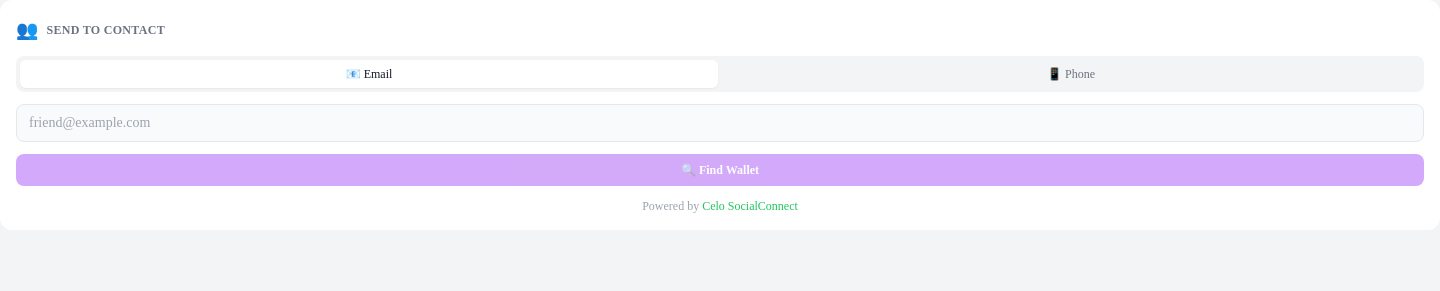
Scenario: SocialContactPicker › shows error when resolve throws
Type "test@example.com" into the field with placeholder "friend@example.com" at (720, 123), box [16,104,1424,142]
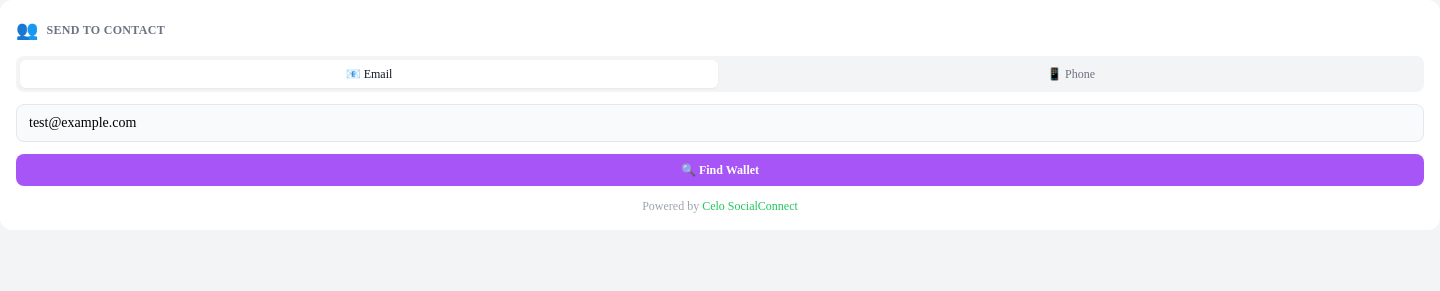
Click the button "🔍 Find Wallet" at (720, 170), box [16,154,1424,186]
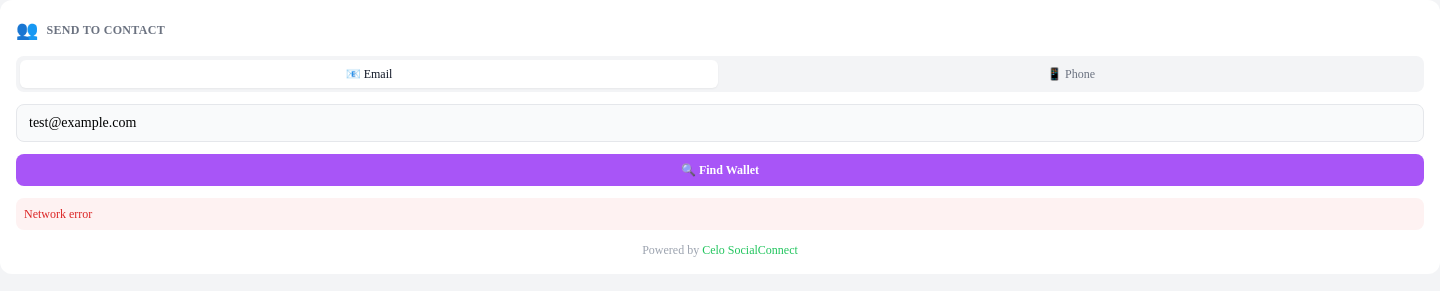
Expected: the text "Network error" is shown, [16,198,1424,230]
